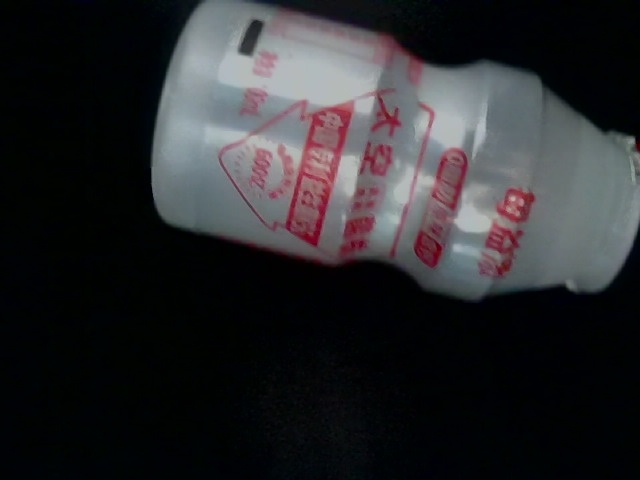CYLJ: (317, 1, 638, 107)
